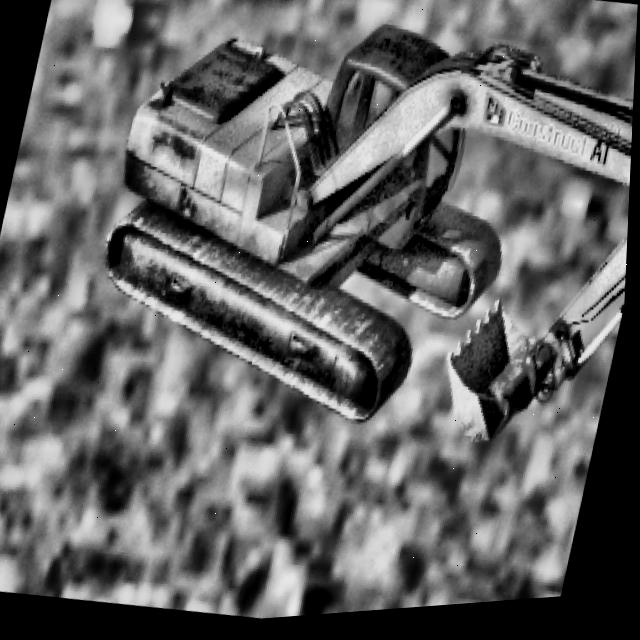excavator: (71, 0, 640, 491)
